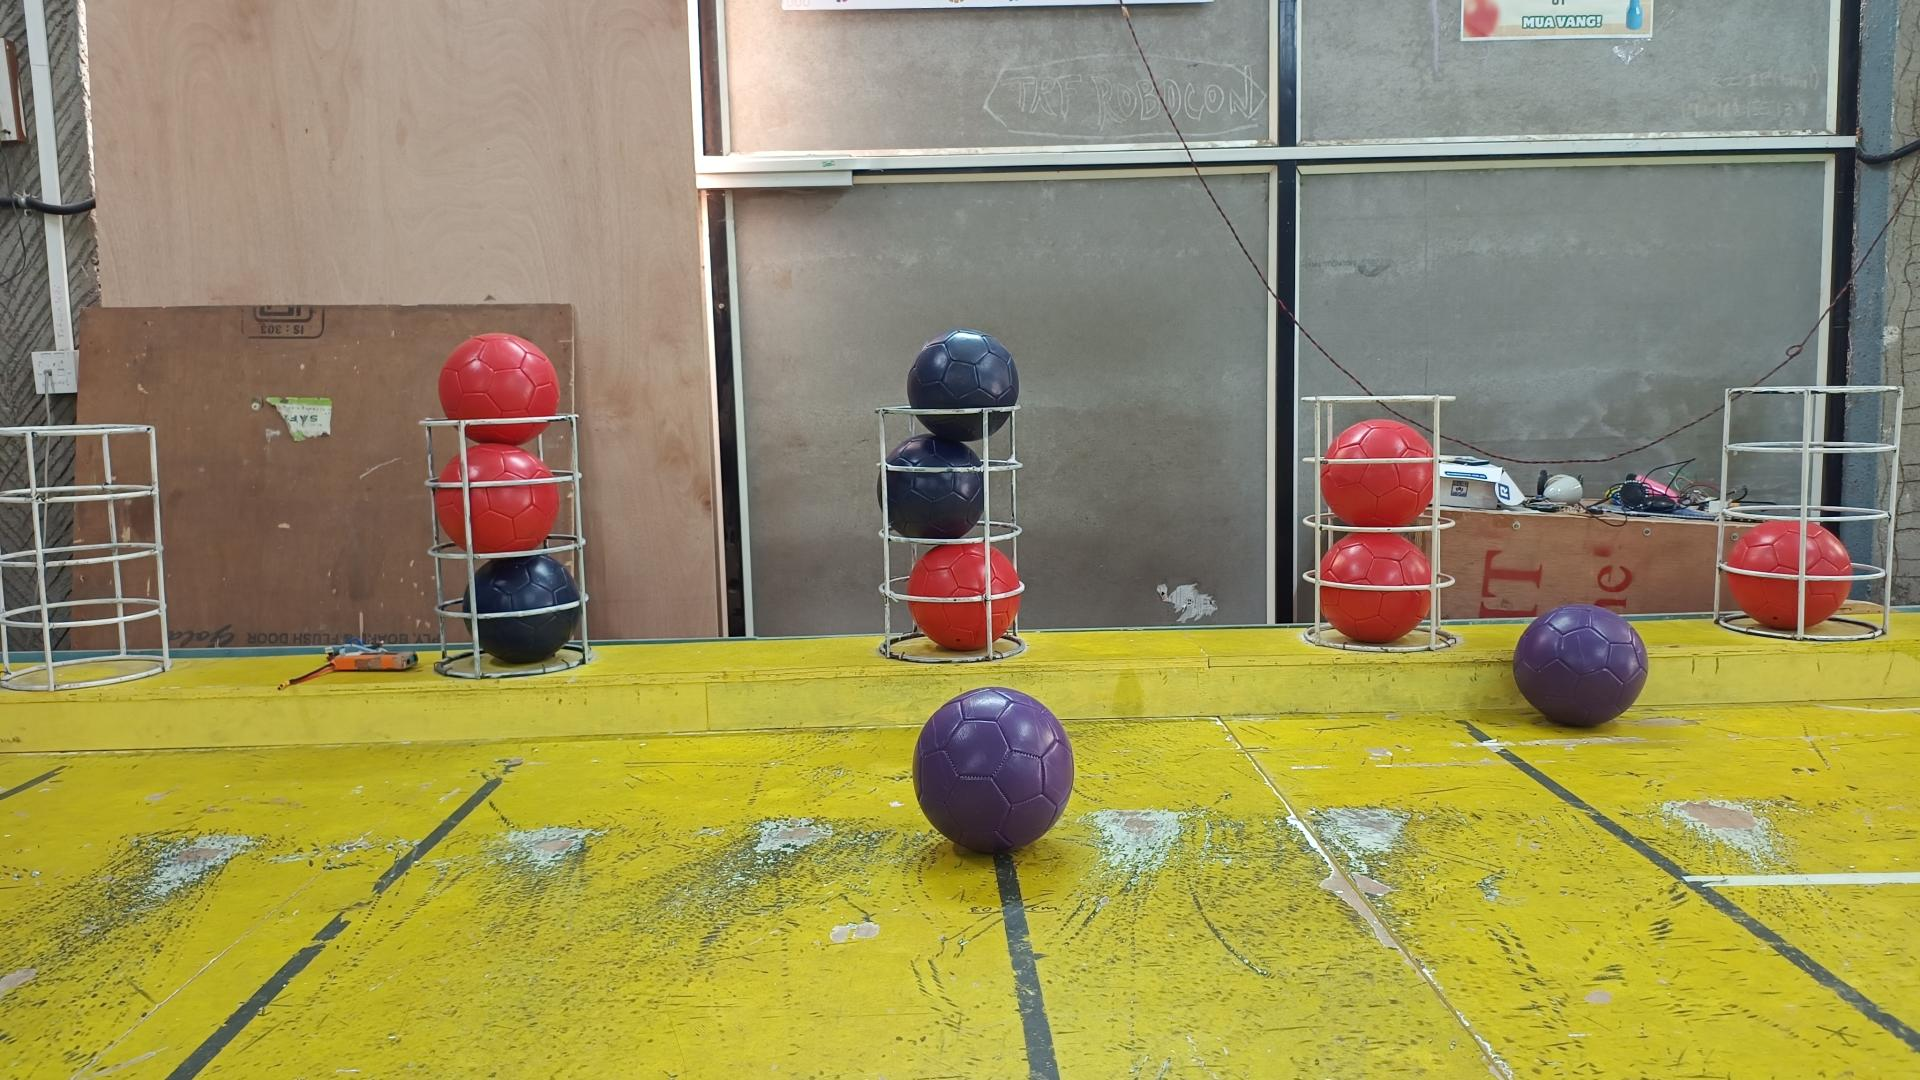dhoka: (462, 555, 582, 663), (907, 330, 1021, 443), (877, 435, 982, 541)
laale: (1725, 521, 1853, 630), (435, 443, 559, 555), (439, 334, 559, 446), (1320, 419, 1436, 529), (1320, 533, 1432, 645), (907, 543, 1021, 653)
